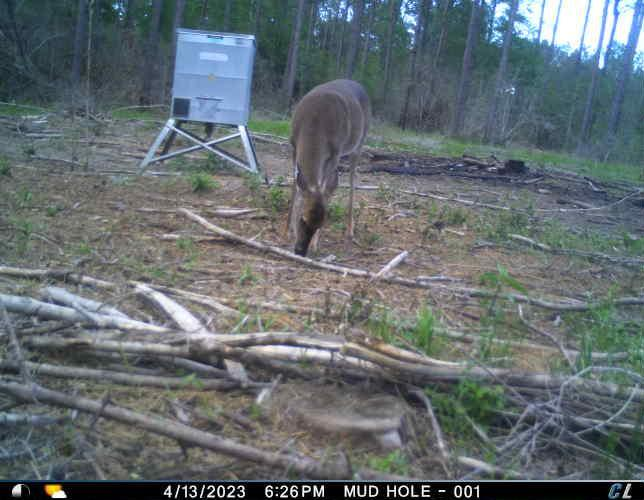Deer: (284, 75, 376, 256)
